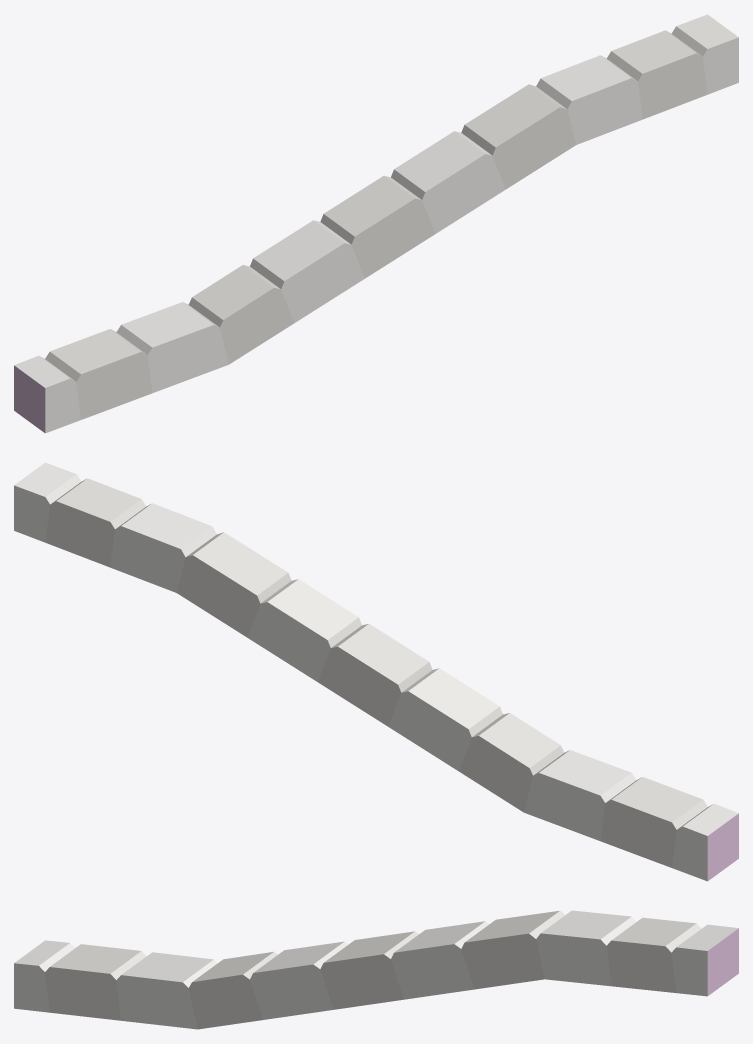
Rendered from Path_Edging_Stones_Incline_Gentle_1x4.glb.
The picture shows the model from 3 angles, top to bottom: view 1: azimuth 30°, elevation 25°; view 2: azimuth 150°, elevation 25°; view 3: azimuth 330°, elevation 25°; orthographic projection.
Visible parts, largest first — view 1: Path_Edging_Stones_Incline_Gentle_1x4; view 2: Path_Edging_Stones_Incline_Gentle_1x4; view 3: Path_Edging_Stones_Incline_Gentle_1x4.
Boxes of the visible parts, x1=… form: Path_Edging_Stones_Incline_Gentle_1x4: x1=14, y1=14, x2=738, y2=433; Path_Edging_Stones_Incline_Gentle_1x4: x1=14, y1=462, x2=738, y2=881; Path_Edging_Stones_Incline_Gentle_1x4: x1=14, y1=910, x2=738, y2=1029.
Bounding box in the file's own units: 400 × 125 × 31.25.
